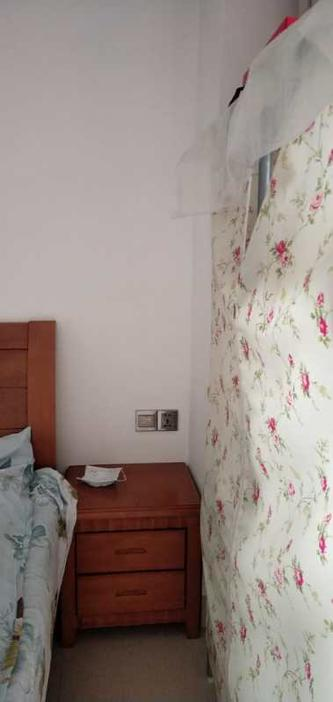switch: (134, 410, 162, 429)
